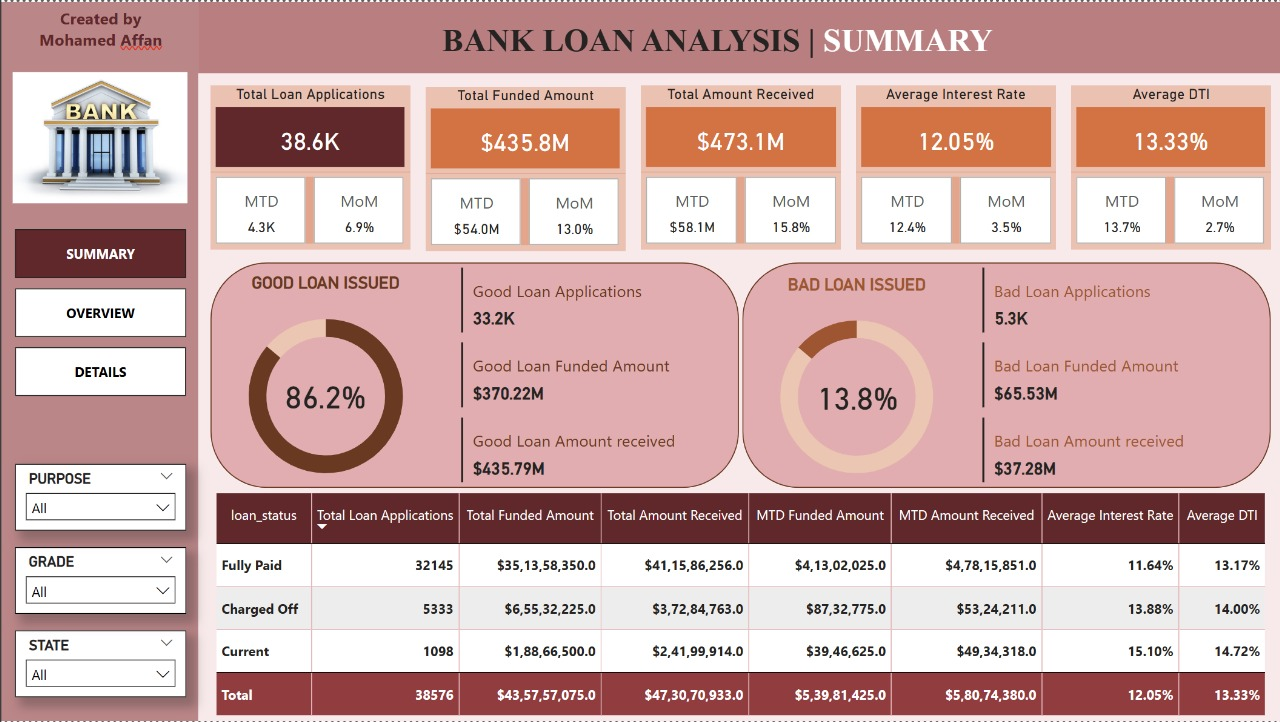

What the dashboard file says about the page in this screenshot:
{"tool":"powerbi","page":{"name":"SUMMARY","canvas":[1280,720],"ordinal":0},"visuals":[{"type":"cardVisual","title":"Total Loan Applications","fields":{"Data":["bank_loan_data.Total Loan Applications"]},"box":[209.1,83.3,200,87.1],"z":0,"group":"g1"},{"type":"cardVisual","title":"Total Amount Received","fields":{"Data":["bank_loan_data.Total Amount Received"]},"box":[639.4,83.3,200,87.1],"z":0,"group":"g3"},{"type":"cardVisual","title":"Average Interest Rate","fields":{"Data":["bank_loan_data.Average Interest Rate"]},"box":[854.5,83.3,200,87.1],"z":0,"group":"g4"},{"type":"cardVisual","title":"Average DTI","fields":{"Data":["bank_loan_data.Average DTI"]},"box":[1069.7,83.3,200,87.1],"z":0,"group":"g5"},{"type":"cardVisual","title":"Total Funded Amount","fields":{"Data":["bank_loan_data.Total Funded Amount"]},"box":[424.2,84.8,200,87.1],"z":0,"group":"g2"},{"type":"shape","box":[209.1,260.6,528.8,225.8],"z":0},{"type":"shape","box":[0,0,1280.3,71.2],"z":1000},{"type":"cardVisual","fields":{"Data":["bank_loan_data.MTD Loan Applications","bank_loan_data.MoM Total Loan Applications"]},"box":[209.1,170.4,200,77.9],"z":1000,"group":"g1"},{"type":"cardVisual","fields":{"Data":["bank_loan_data.MTD Total Amount Received","bank_loan_data.MoM Total Amount Received"]},"box":[639.4,170.4,200,77.9],"z":1000,"group":"g3"},{"type":"cardVisual","fields":{"Data":["bank_loan_data.MTD Average Interest Rate","bank_loan_data.MoM Average Interest Rate"]},"box":[854.5,170.4,200,77.9],"z":1000,"group":"g4"},{"type":"cardVisual","fields":{"Data":["bank_loan_data.MTD Average DTI","bank_loan_data.MoM Average DTI"]},"box":[1069.7,170.4,200,77.9],"z":1000,"group":"g5"},{"type":"cardVisual","fields":{"Data":["bank_loan_data.MTD Total Funded Amount","bank_loan_data.MoM Total Funded Amount"]},"box":[424.2,171.9,200,77.9],"z":1000,"group":"g2"},{"type":"shape","box":[0,0,197,721.2],"z":2000},{"type":"textbox","box":[410.6,15.2,610.6,56.1],"z":3000},{"type":"group","id":"g1","title":"Group 1","box":[209.1,83.3,200,165],"z":4000},{"type":"group","id":"g2","title":"Group 1","box":[424.2,84.8,200,165.2],"z":5000},{"type":"group","id":"g3","title":"Group 1","box":[639.4,83.3,200,165.2],"z":6000},{"type":"group","id":"g4","title":"Group 1","box":[854.5,83.3,200,165],"z":7000},{"type":"group","id":"g5","title":"Group 1","box":[1069.7,83.3,200,165],"z":8000},{"type":"donutChart","title":"GOOD LOAN ISSUED","fields":{"Category":["bank_loan_data.Good vs Bad Loan"],"Y":["bank_loan_data.Total Loan Applications"]},"box":[222.7,271.2,203,227.3],"z":9000},{"type":"shape","box":[740.9,260.6,528.8,225.8],"z":10000},{"type":"donutChart","title":"BAD LOAN ISSUED","fields":{"Category":["bank_loan_data.Good vs Bad Loan"],"Y":["bank_loan_data.Total Loan Applications"]},"box":[754.5,272.7,201.5,225.8],"z":11000},{"type":"card","fields":{"Values":["bank_loan_data.Good Loan percentage"]},"box":[222.7,348.5,203,89.4],"z":12000},{"type":"card","fields":{"Values":["bank_loan_data.Bad Loan percentage"]},"box":[754.5,343.9,203,101.5],"z":13000},{"type":"cardVisual","fields":{"Data":["bank_loan_data.Good Loan applications","bank_loan_data.Good Loan Total Funded Amount","bank_loan_data.Good Loan Total Amount received"]},"box":[454.5,260.6,262.1,225.8],"z":14000},{"type":"cardVisual","fields":{"Data":["bank_loan_data.Bad Loan Applications","bank_loan_data.Bad Loan Funded Amount","bank_loan_data.Bad Loan Amount received"]},"box":[975.8,260.6,262.1,225.8],"z":15000},{"type":"tableEx","fields":{"Values":["bank_loan_data.loan_status","bank_loan_data.Total Loan Applications","bank_loan_data.Total Funded Amount","bank_loan_data.Total Amount Received","bank_loan_data.MTD Total Funded Amount","bank_loan_data.MTD Total Amount Received","bank_loan_data.Average Interest Rate","bank_loan_data.Average DTI"]},"box":[209.1,486.4,1060.6,233.3],"z":16000},{"type":"slicer","title":"  STATE","fields":{"Values":["bank_loan_data.address_state"]},"box":[13.6,628.8,171.2,66.7],"z":17000},{"type":"slicer","title":"  STATE","fields":{"Values":["bank_loan_data.grade"]},"box":[13.6,545.5,171.2,66.7],"z":18000},{"type":"slicer","title":"  STATE","fields":{"Values":["bank_loan_data.purpose"]},"box":[13.6,462.1,171.2,66.7],"z":19000},{"type":"textbox","box":[6.1,0,190.9,83.3],"z":20000},{"type":"image","box":[6.1,60.6,184.8,150],"z":21000},{"type":"pageNavigator","box":[13.6,227.3,171.2,168.2],"z":22000}]}

Visuals, with their boxes in screenshot pixels (x1, y1, x2, y2), scaled from the page's 1280x720 canvas onto the 1280x722 screenshot:
"Total Loan Applications" cardVisual: l=209, t=84, r=409, b=171
"Total Amount Received" cardVisual: l=639, t=84, r=839, b=171
"Average Interest Rate" cardVisual: l=854, t=84, r=1054, b=171
"Average DTI" cardVisual: l=1070, t=84, r=1270, b=171
"Total Funded Amount" cardVisual: l=424, t=85, r=624, b=172
shape: l=209, t=261, r=738, b=488
shape: l=0, t=0, r=1279, b=71
cardVisual - bank_loan_data.MTD Loan Applications x bank_loan_data.MoM Total Loan Applications: l=209, t=171, r=409, b=249
cardVisual - bank_loan_data.MTD Total Amount Received x bank_loan_data.MoM Total Amount Received: l=639, t=171, r=839, b=249
cardVisual - bank_loan_data.MTD Average Interest Rate x bank_loan_data.MoM Average Interest Rate: l=854, t=171, r=1054, b=249
cardVisual - bank_loan_data.MTD Average DTI x bank_loan_data.MoM Average DTI: l=1070, t=171, r=1270, b=249
cardVisual - bank_loan_data.MTD Total Funded Amount x bank_loan_data.MoM Total Funded Amount: l=424, t=172, r=624, b=250
shape: l=0, t=0, r=197, b=721
textbox: l=411, t=15, r=1021, b=71
"Group 1" group: l=209, t=84, r=409, b=249
"Group 1" group: l=424, t=85, r=624, b=251
"Group 1" group: l=639, t=84, r=839, b=249
"Group 1" group: l=854, t=84, r=1054, b=249
"Group 1" group: l=1070, t=84, r=1270, b=249
"GOOD LOAN ISSUED" donutChart: l=223, t=272, r=426, b=500
shape: l=741, t=261, r=1270, b=488
"BAD LOAN ISSUED" donutChart: l=754, t=273, r=956, b=500
card - bank_loan_data.Good Loan percentage: l=223, t=349, r=426, b=439
card - bank_loan_data.Bad Loan percentage: l=754, t=345, r=958, b=447
cardVisual - bank_loan_data.Good Loan applications x bank_loan_data.Good Loan Total Funded Amount: l=454, t=261, r=717, b=488
cardVisual - bank_loan_data.Bad Loan Applications x bank_loan_data.Bad Loan Funded Amount: l=976, t=261, r=1238, b=488
tableEx - bank_loan_data.loan_status x bank_loan_data.Total Loan Applications: l=209, t=488, r=1270, b=721
"  STATE" slicer: l=14, t=631, r=185, b=697
"  STATE" slicer: l=14, t=547, r=185, b=614
"  STATE" slicer: l=14, t=463, r=185, b=530
textbox: l=6, t=0, r=197, b=84
image: l=6, t=61, r=191, b=211
pageNavigator: l=14, t=228, r=185, b=397
